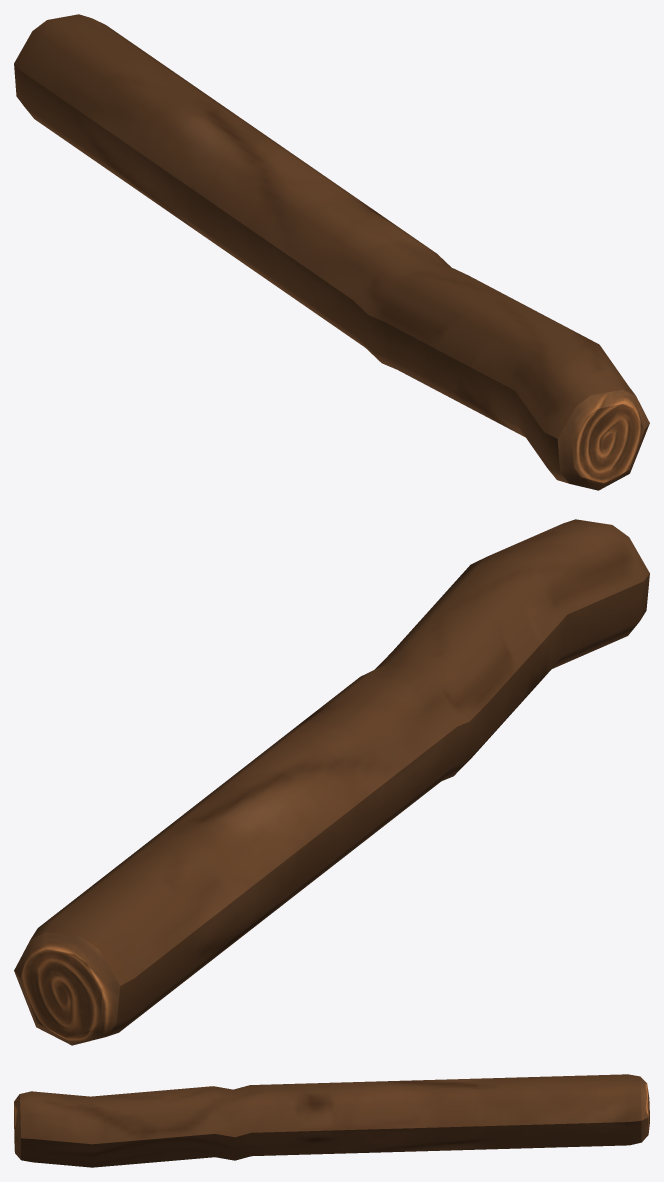
Rendered from log.FBX.
The picture shows the model from 3 angles, top to bottom: view 1: azimuth 30°, elevation 25°; view 2: azimuth 150°, elevation 25°; view 3: azimuth 270°, elevation 25°; orthographic projection. The views are drawn at different scales.
Parts seen in each view (by area): view 1: log; view 2: log; view 3: log.
Part boxes in pixels (<box>): log: <box>14,14,649,490</box>; log: <box>14,519,649,1045</box>; log: <box>14,1074,649,1167</box>.
Bounding box in the file's own units: 17.94 × 13.19 × 105.
